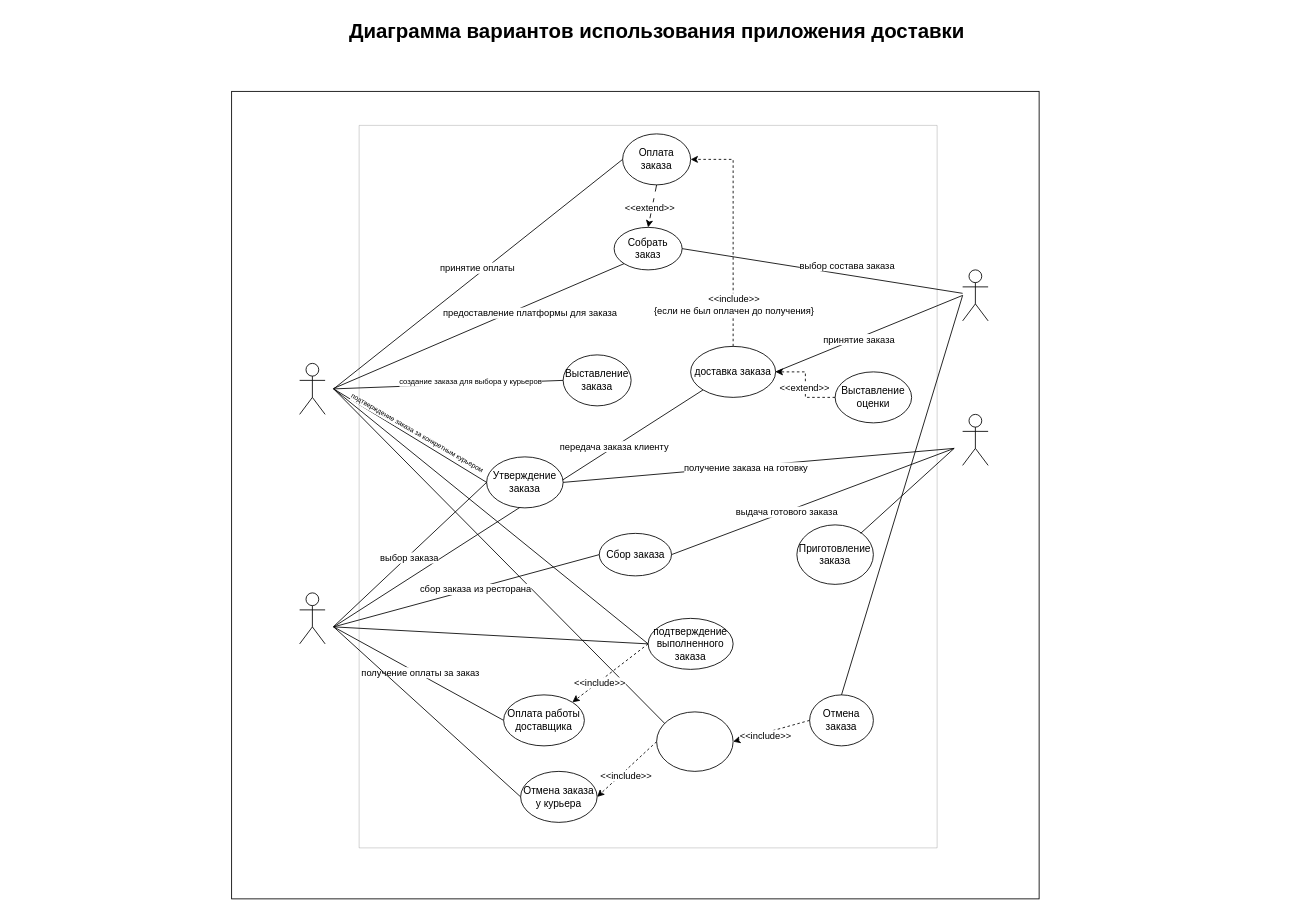
This 1312x914 diagram has some shape labels left out. The box of each missing label's shape, as (x1, y1, x2, y2) in pixels:
Доставщик: (299, 592, 325, 644)
Заказчик: (962, 269, 988, 321)
оплата отмененного заказа: (656, 711, 733, 771)
Приложение доставки: (299, 363, 325, 414)
Ресторан: (962, 414, 988, 465)
